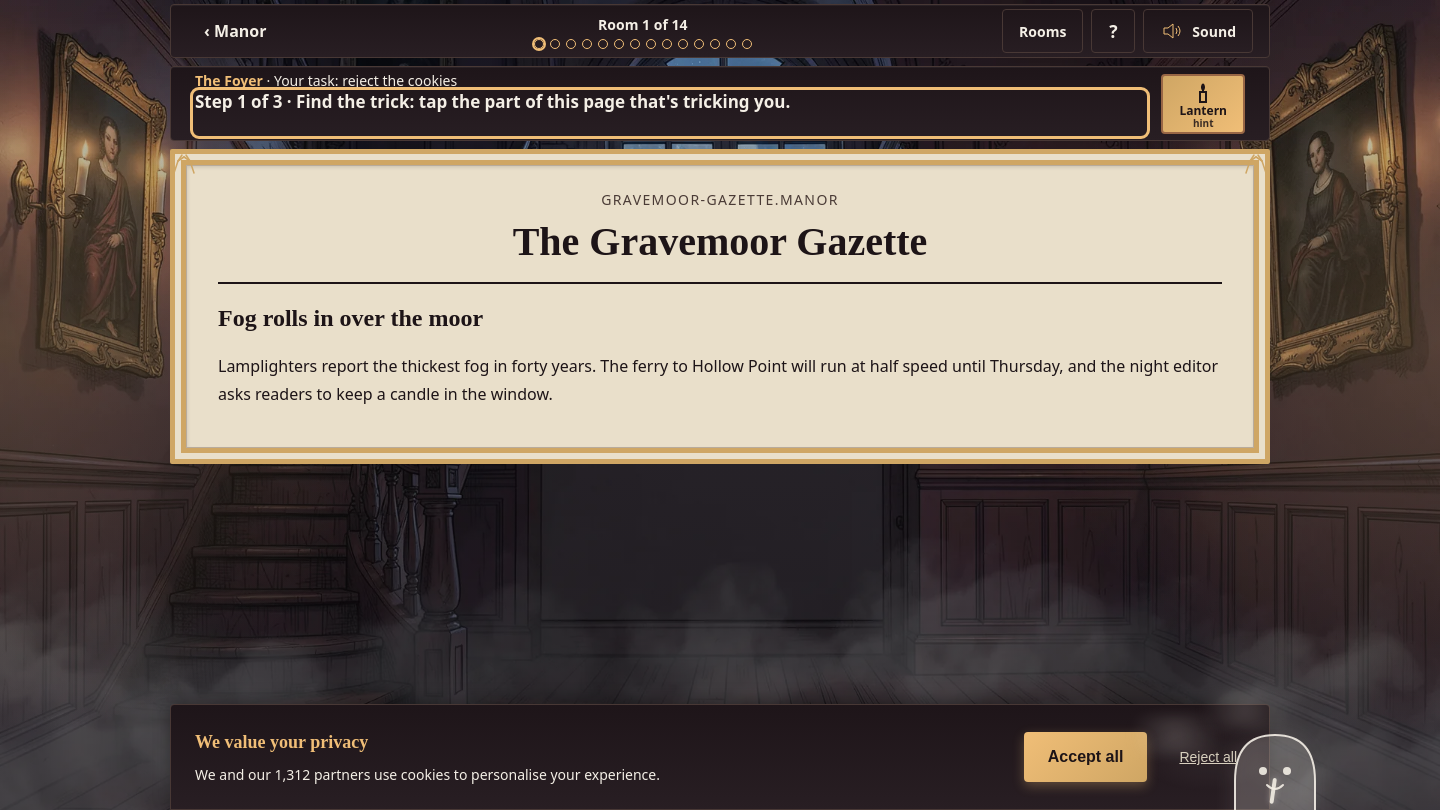
Test: Room component — the lantern lights the trick › lighting the lantern rings the possessed element and focuses it
This screenshot has width=1440, height=810.
What coordinates should you click on to do the following:
click the button "Lantern hint"
I would click on:
 (1203, 104)
Its box is top-left (1162, 74), bottom-right (1245, 134).
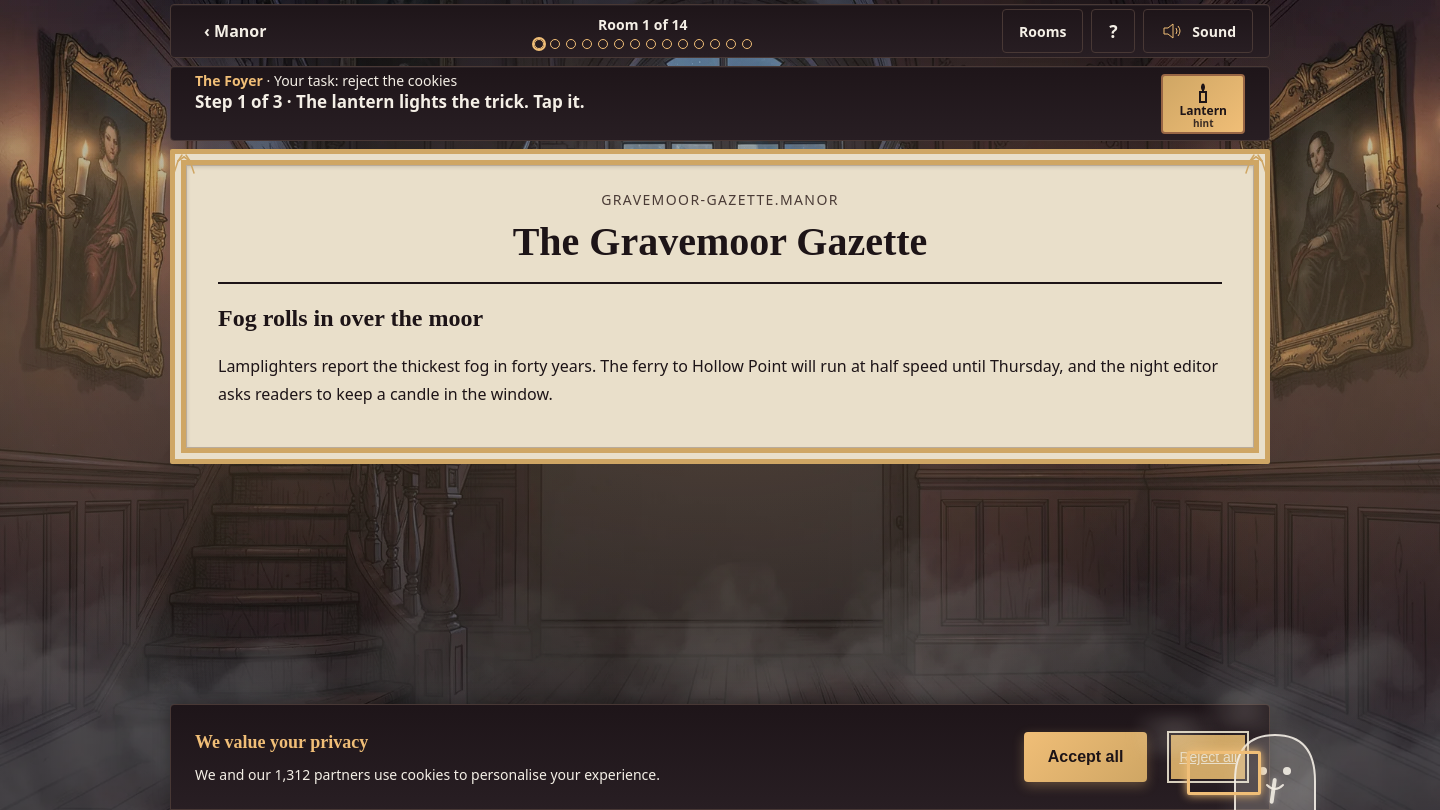
What coordinates should you click on to do the following:
click the button "Reject all"
I would click on:
 (1208, 757)
Its box is top-left (1171, 735), bottom-right (1245, 779).
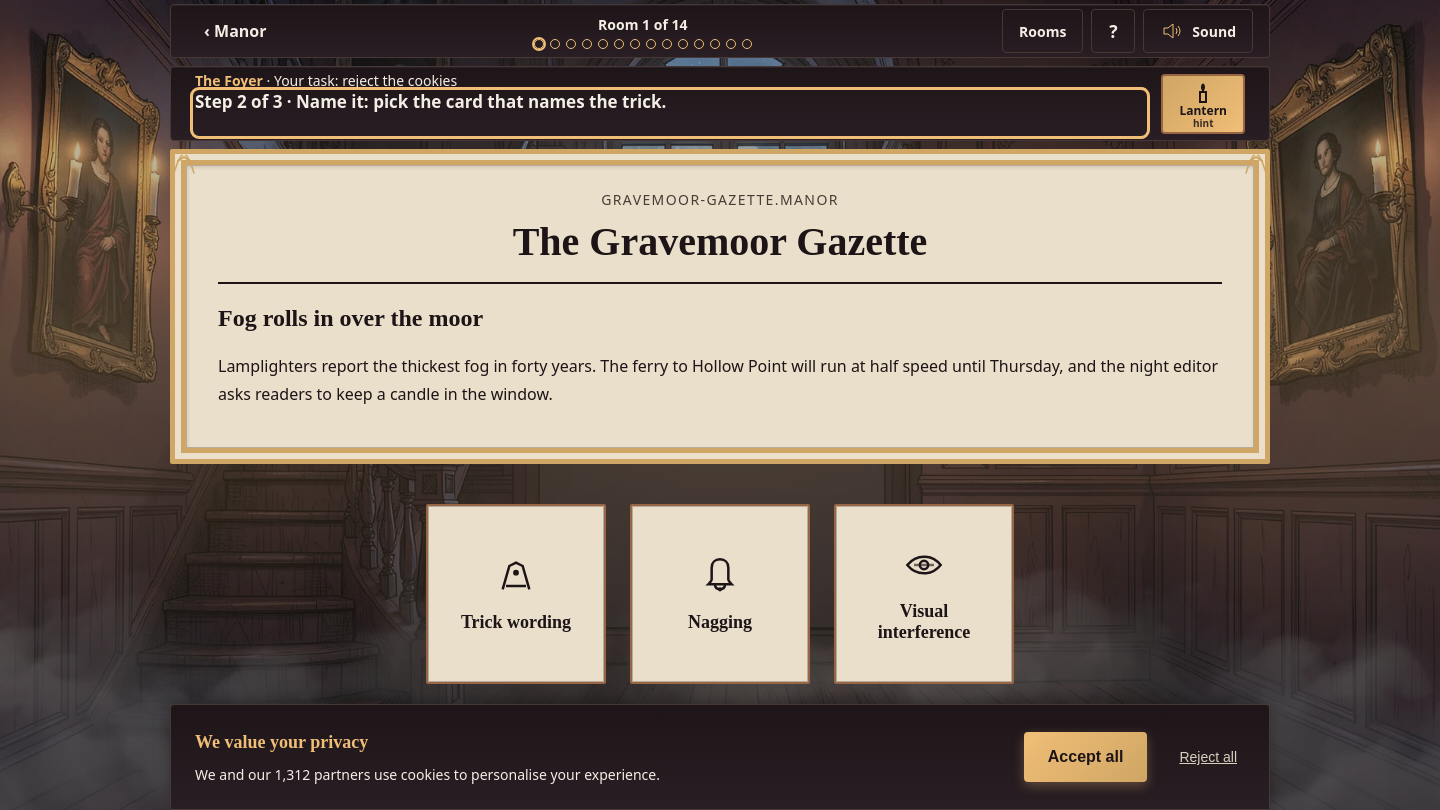
Result: the button "Visual interference" is shown at top-left (834, 504), bottom-right (1014, 684)
